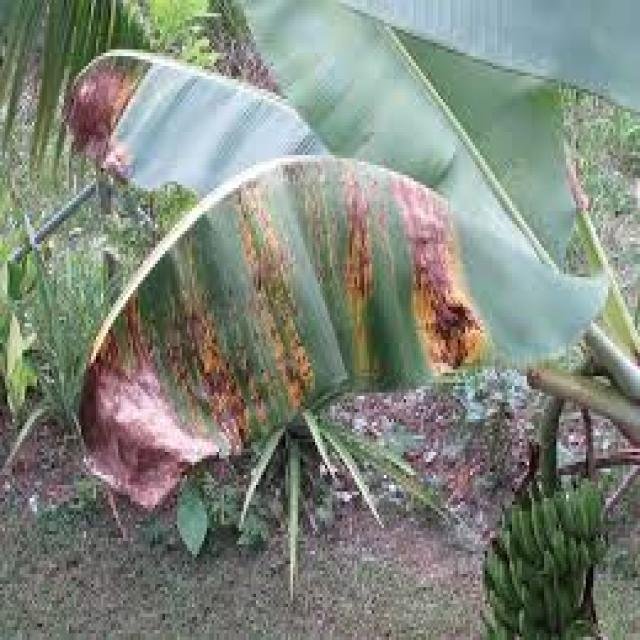Early_rust: (42, 138, 492, 531), (10, 21, 168, 194)
